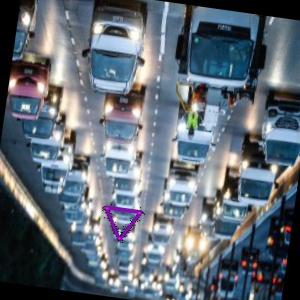triangle: (104, 205, 145, 243)
